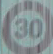Speed limit: (3, 3, 51, 52)
